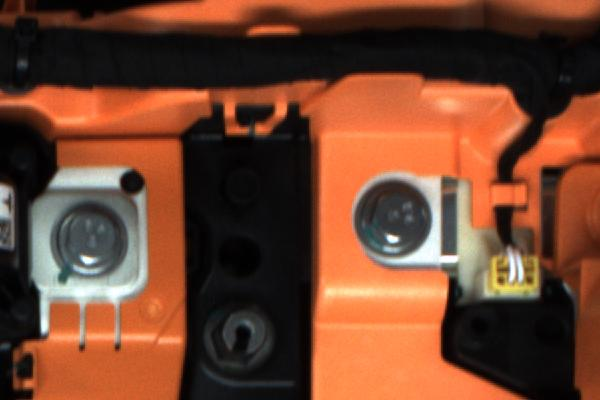nut_b: (346, 165, 443, 278), (52, 189, 146, 294)
